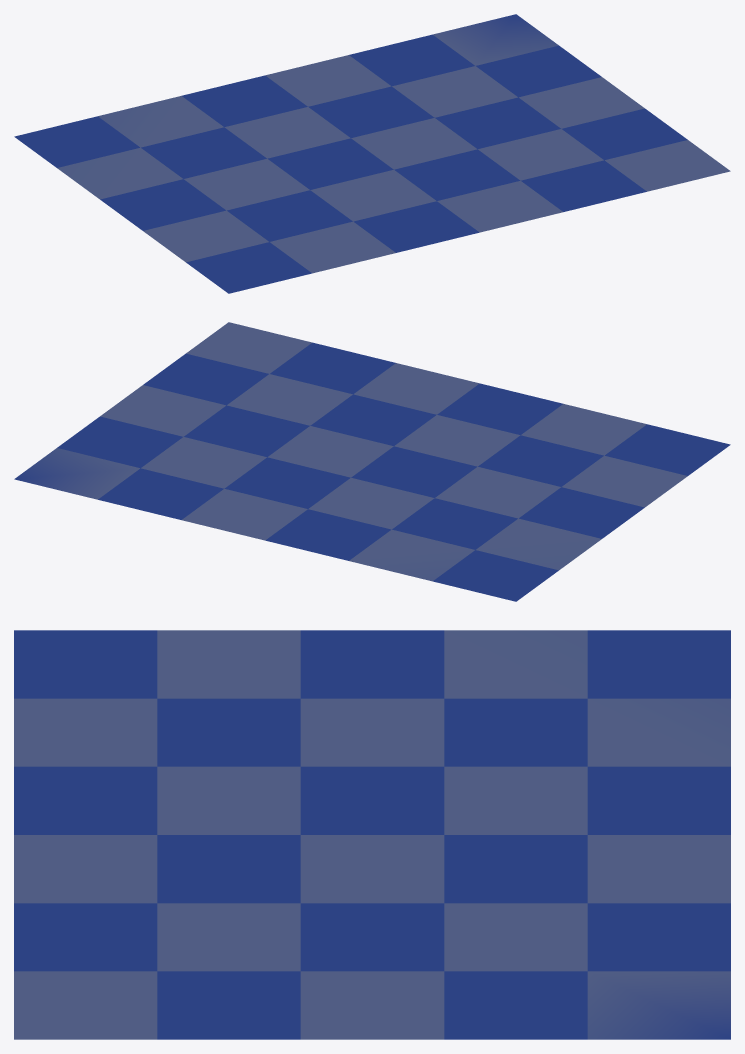
File: FoundationBathroom.fbx
3 renders of one model, top to bottom at view 1: azimuth 30°, elevation 25°; view 2: azimuth 150°, elevation 25°; view 3: azimuth 270°, elevation 25°, orthographic. The views are drawn at different scales.
Visible parts, largest first — view 1: Ground.002; view 2: Ground.002; view 3: Ground.002.
Boxes of the visible parts, left/top/right/bottom form: Ground.002: left=14, top=14, right=730, bottom=293; Ground.002: left=14, top=322, right=730, bottom=601; Ground.002: left=14, top=630, right=730, bottom=1039.
Size of the model in its own units: 178 by 2.75e-05 by 132.
